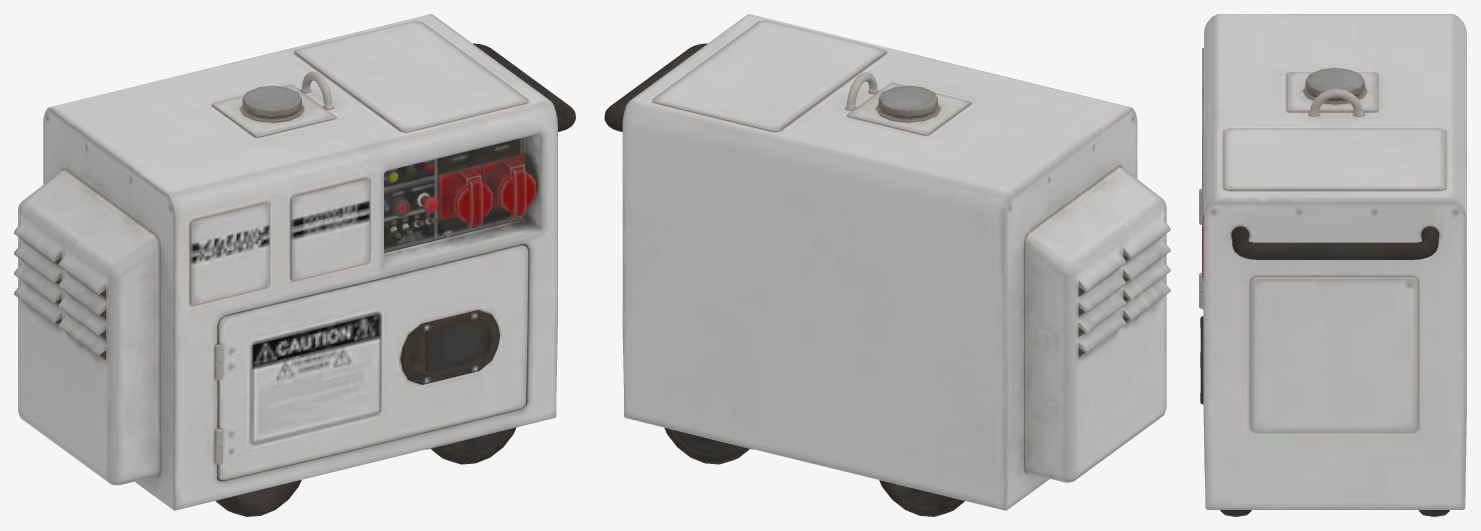
The model's file is diesel_generator.glb.
3 views of the same model, side by side, from view 1: azimuth 30°, elevation 25°; view 2: azimuth 150°, elevation 25°; view 3: azimuth 270°, elevation 25° (orthographic).
Visible parts, largest first — view 1: polySurface52; view 2: polySurface52; view 3: polySurface52.
Boxes of the visible parts, box(x1,y1,x2,y2) form: polySurface52: box(14, 14, 575, 516); polySurface52: box(604, 14, 1170, 516); polySurface52: box(1199, 14, 1466, 516).
Bounding box in the file's own units: 1.41 × 1.06 × 0.6889.
1 material, 1 textured.
